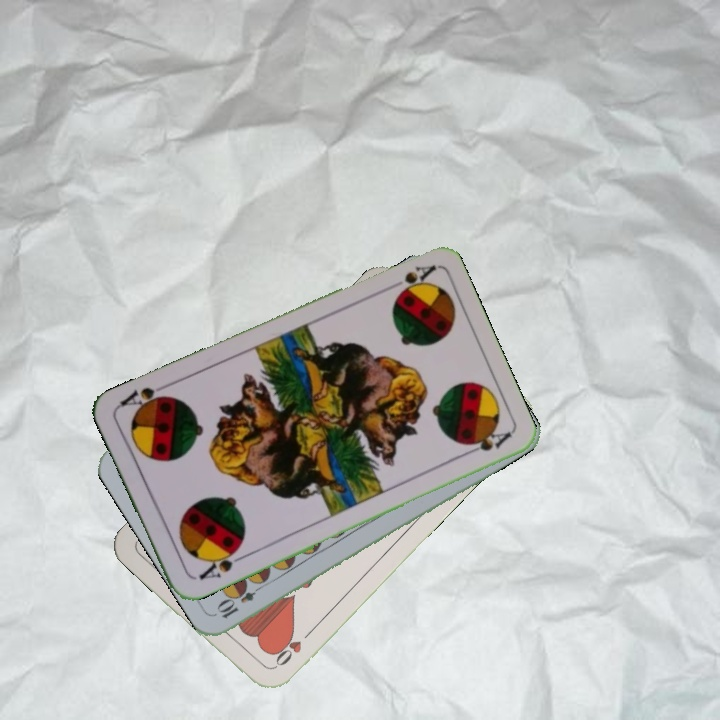E10: (213, 578, 267, 621)
HO: (268, 626, 315, 672)
SA: (381, 261, 437, 300), (195, 543, 248, 583)
